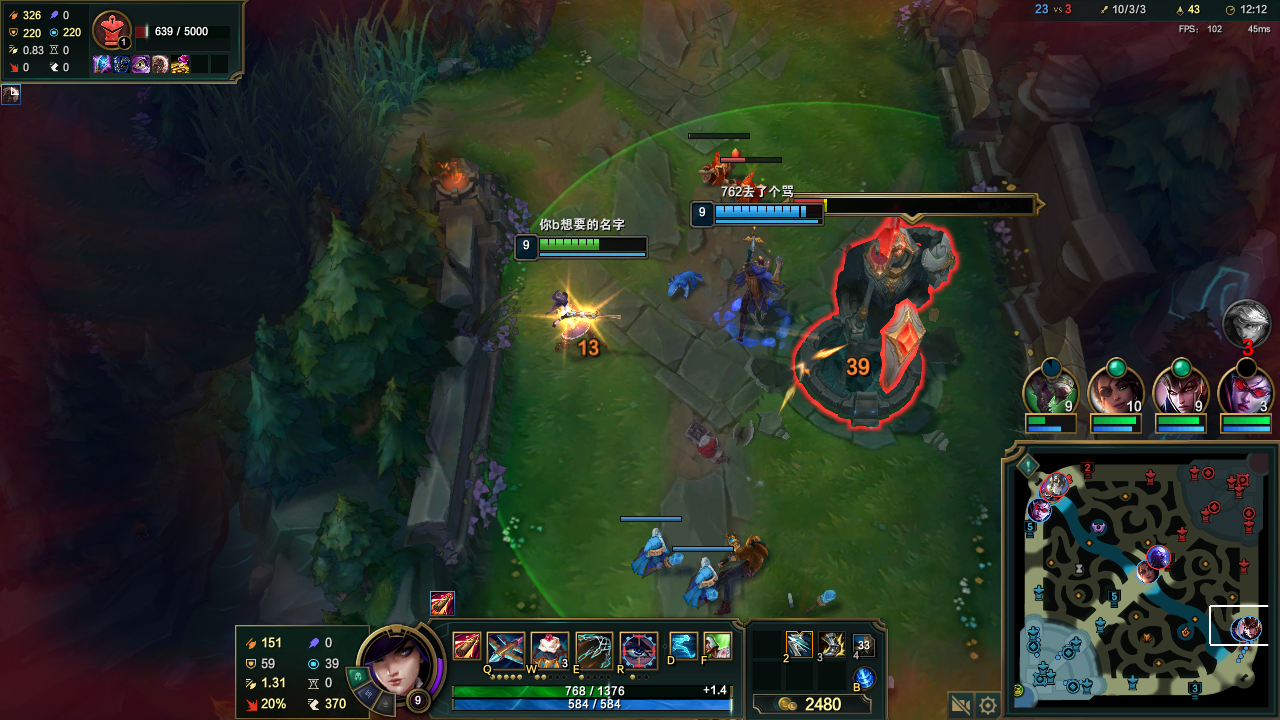DFFYT: (796, 200, 977, 443)
DFXB: (705, 150, 735, 181), (728, 173, 757, 198)
WFXB: (633, 528, 678, 572), (690, 564, 720, 602)
